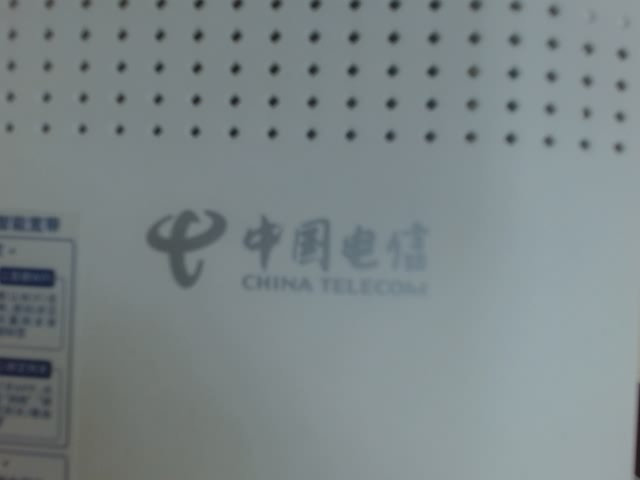AB_ChinaTelecom: (119, 176, 458, 312)
